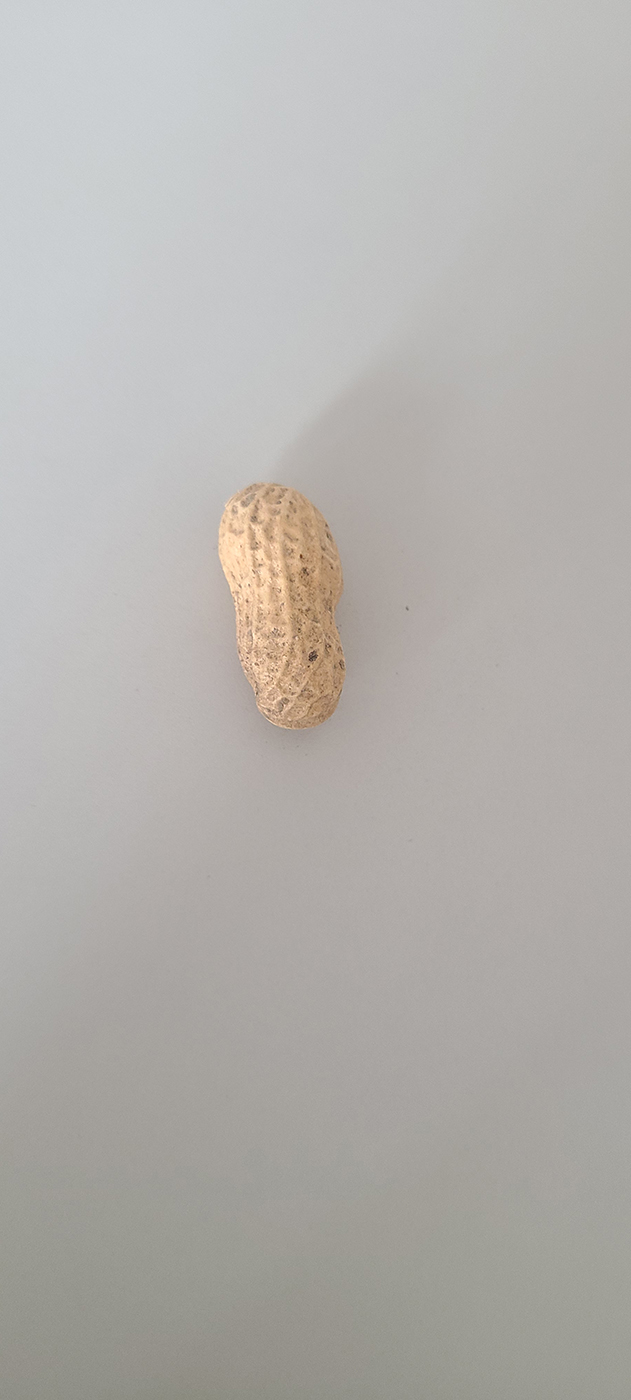h: (215, 480, 347, 731)
